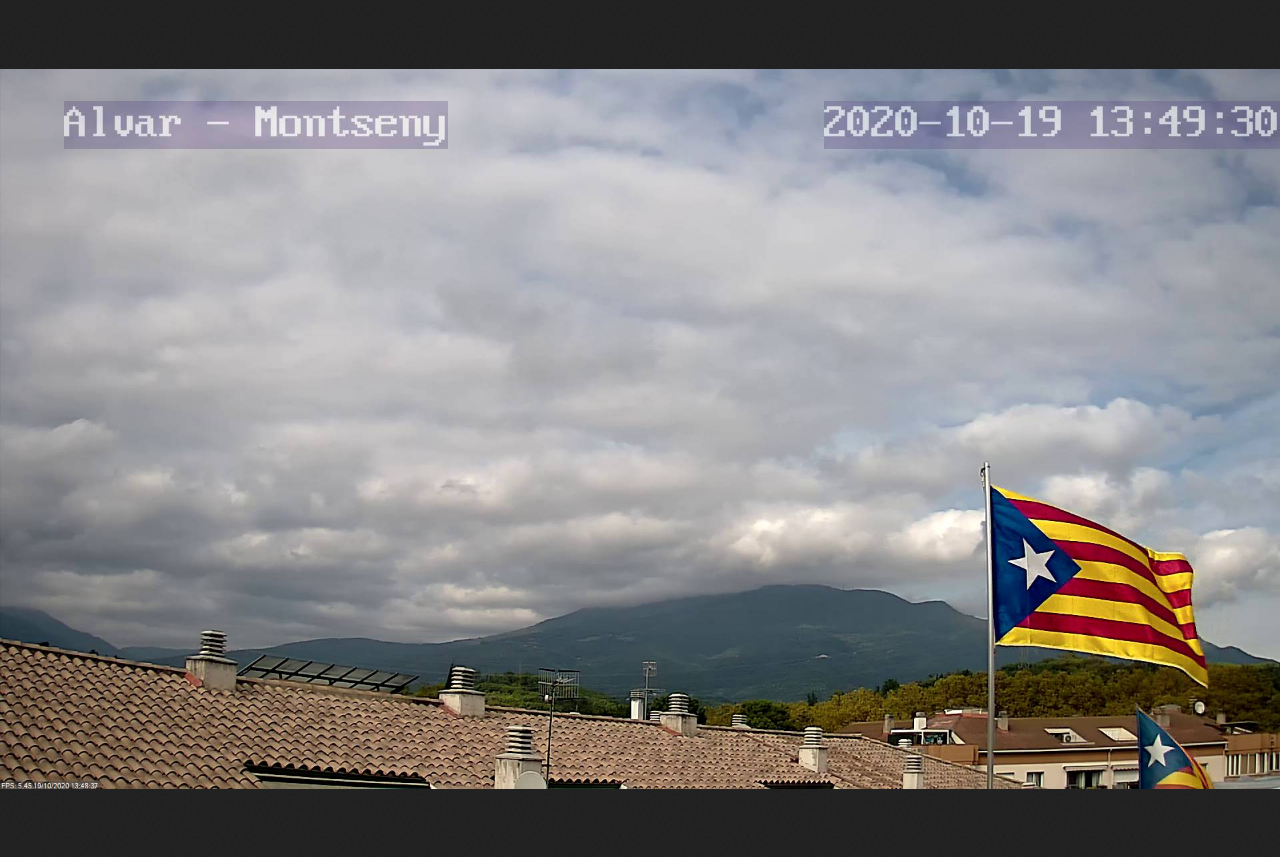yes: (985, 484, 1213, 693)
